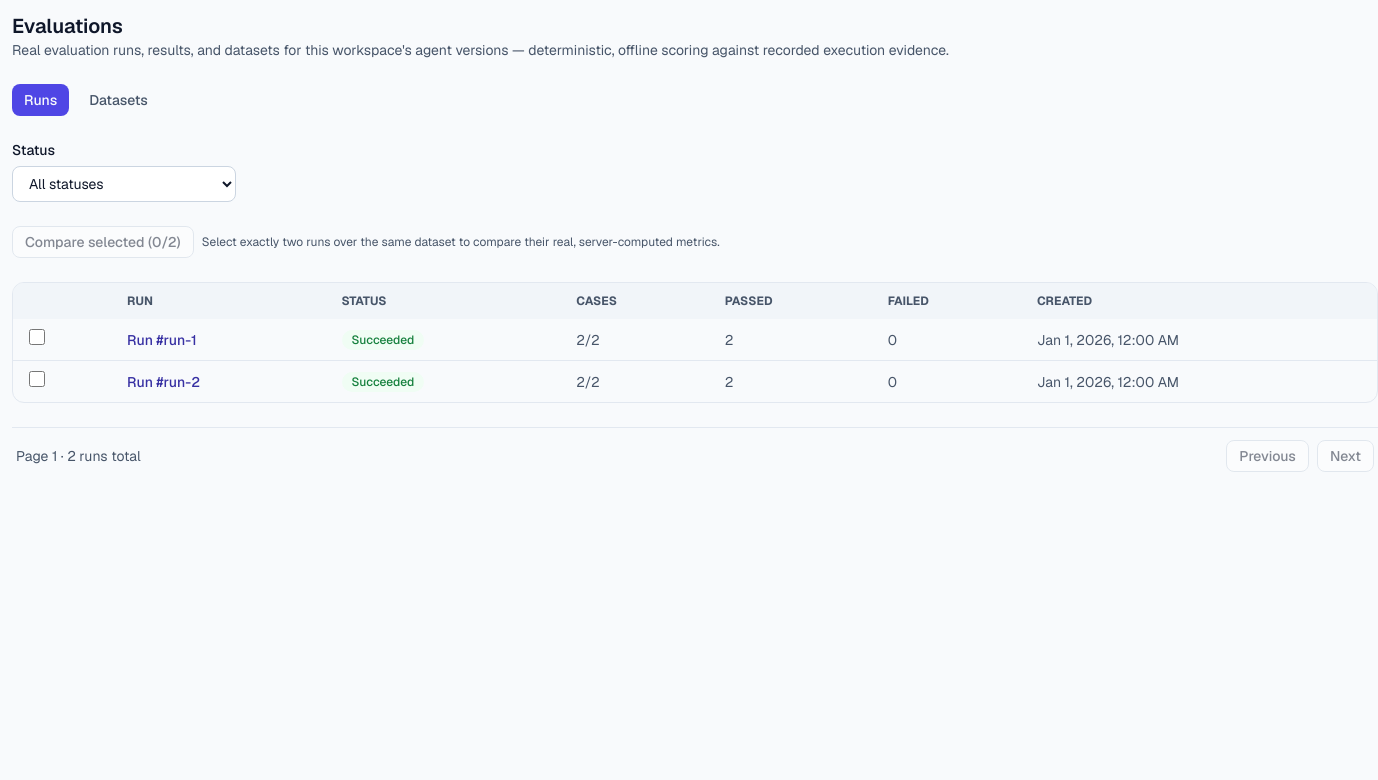
Test: Compare Runs (Phase 23 Chunk 3) › clears the selection and any prior comparison result
expect the button "Compare selected (0/2)" is shown: met, box [12, 226, 194, 258]
Click the checkbox named "Select run run-1 for comparison" at (37, 337), box [29, 329, 45, 345]
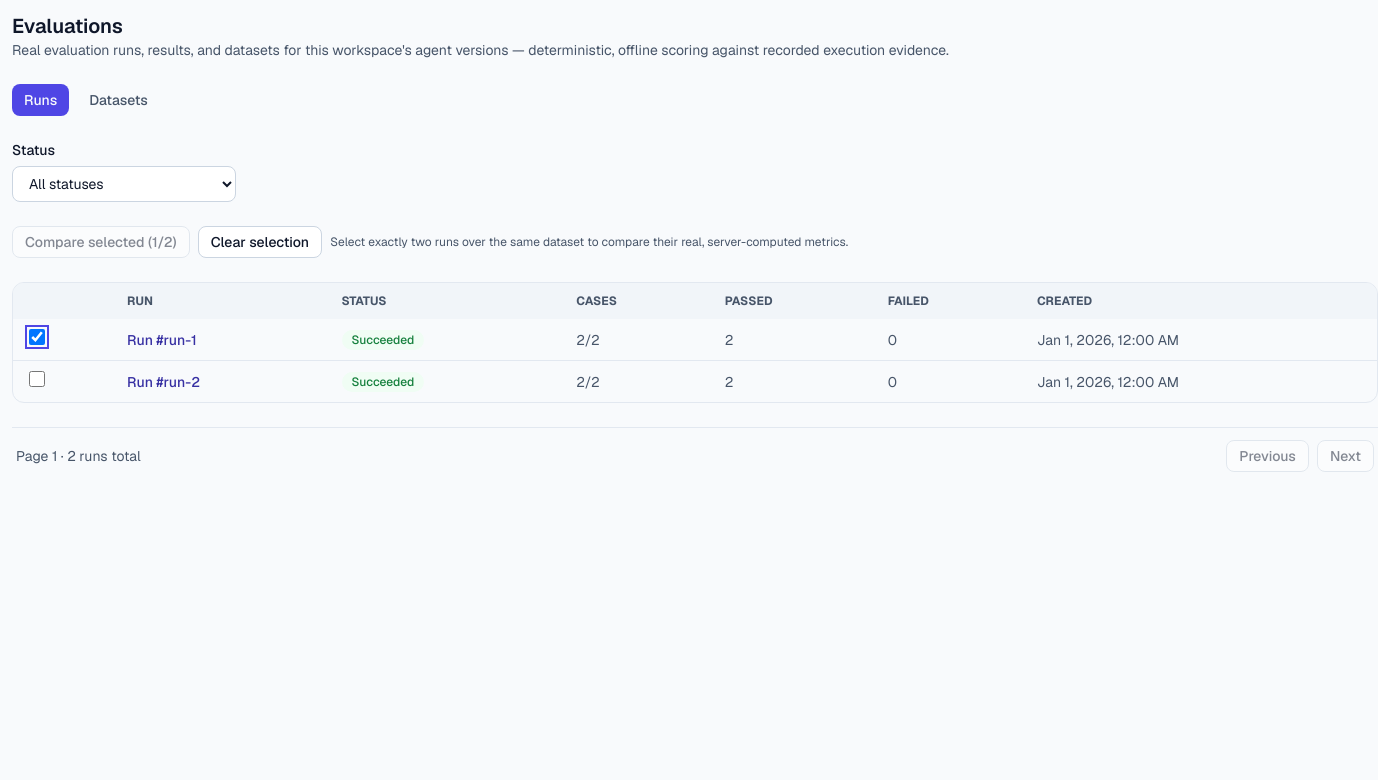
Click the checkbox named "Select run run-2 for comparison" at (37, 379), box [29, 371, 45, 387]
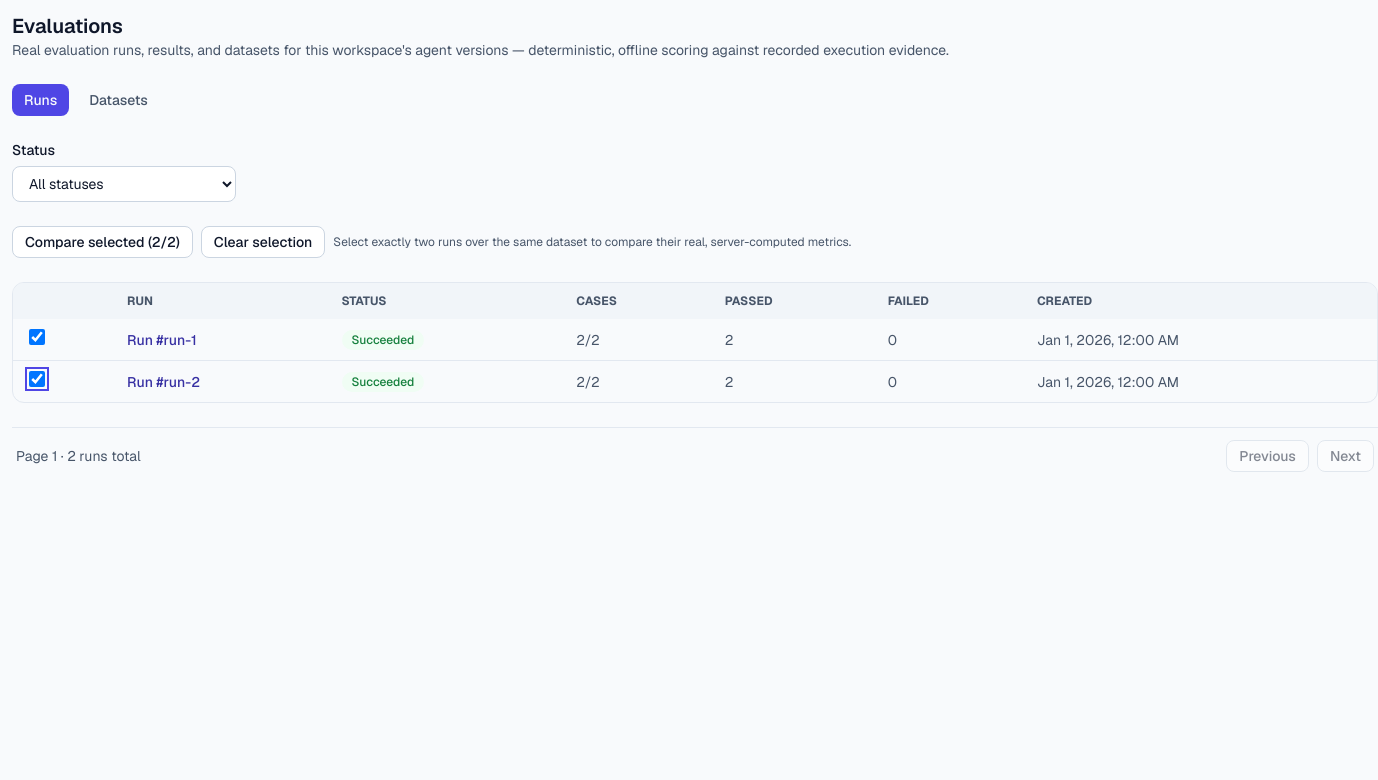
Click the button "Compare selected (2/2)" at (102, 242), box [12, 226, 193, 258]
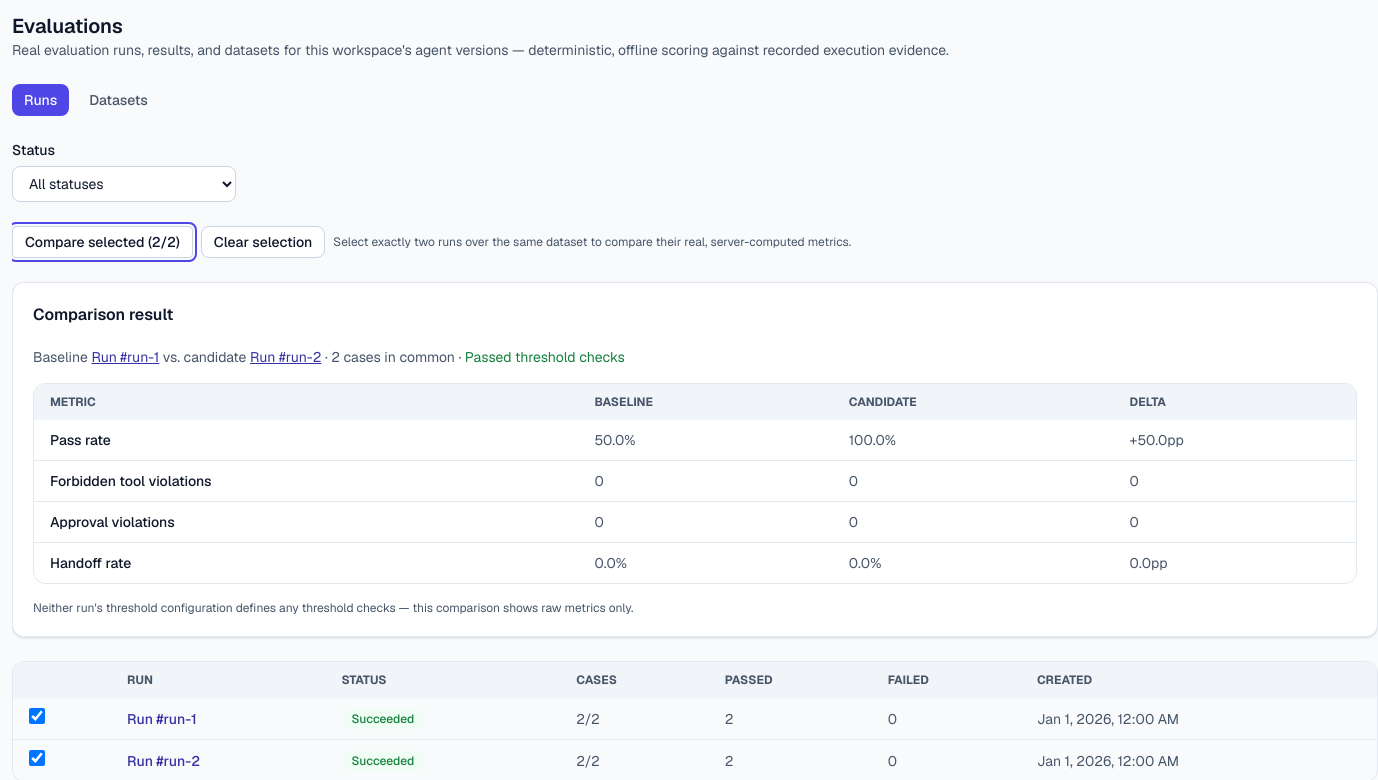
expect the heading "Comparison result" is shown: met, box [33, 304, 173, 325]
Click the button "Clear selection" at (263, 242), box [201, 226, 325, 258]
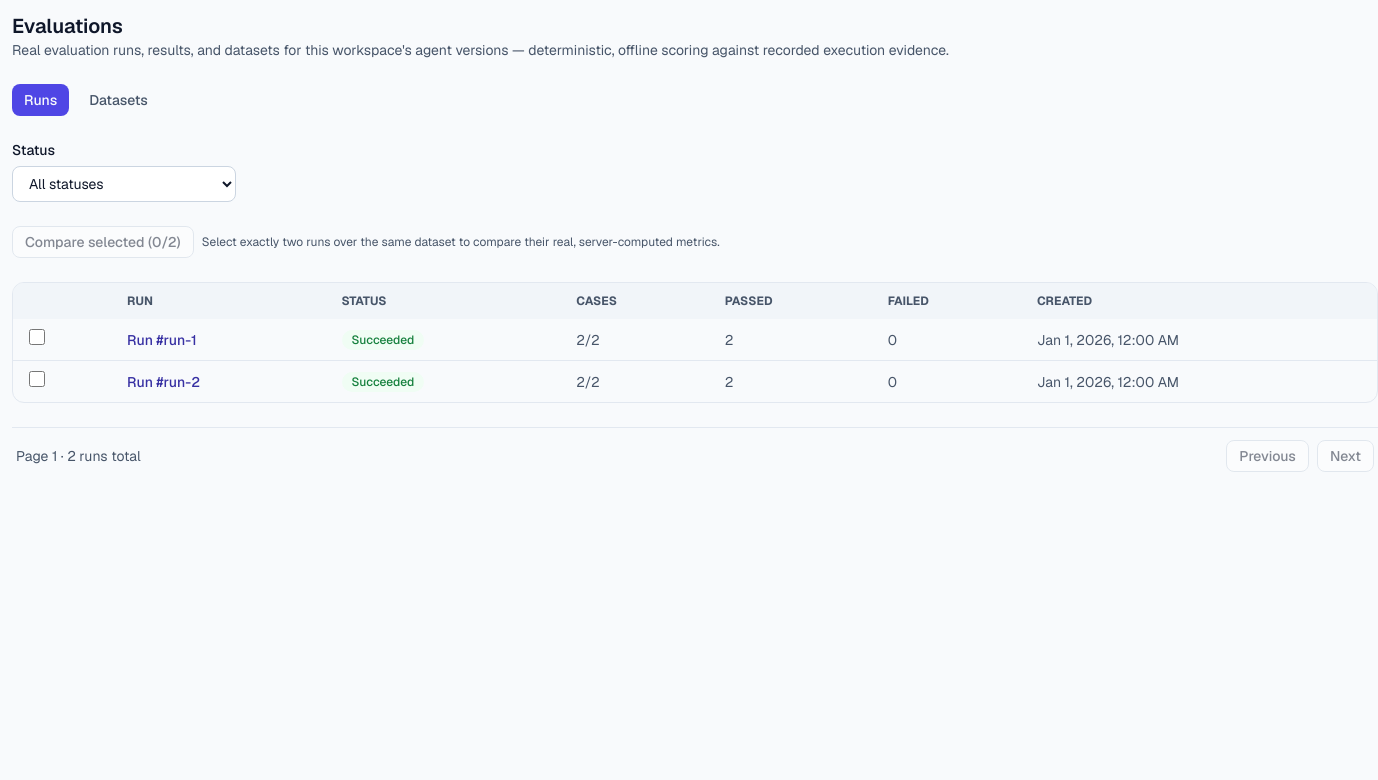
expect the heading "Comparison result" is gone: met
expect the button "Compare selected (0/2)" is shown: met, box [12, 226, 194, 258]
